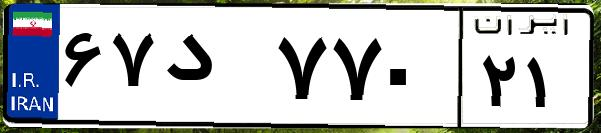0: (385, 28, 445, 110)
1: (525, 38, 570, 115)
2: (475, 38, 525, 113)
6: (57, 26, 110, 100)
7: (270, 28, 330, 110), (330, 28, 385, 110), (110, 28, 158, 98)
د: (158, 20, 270, 120)
